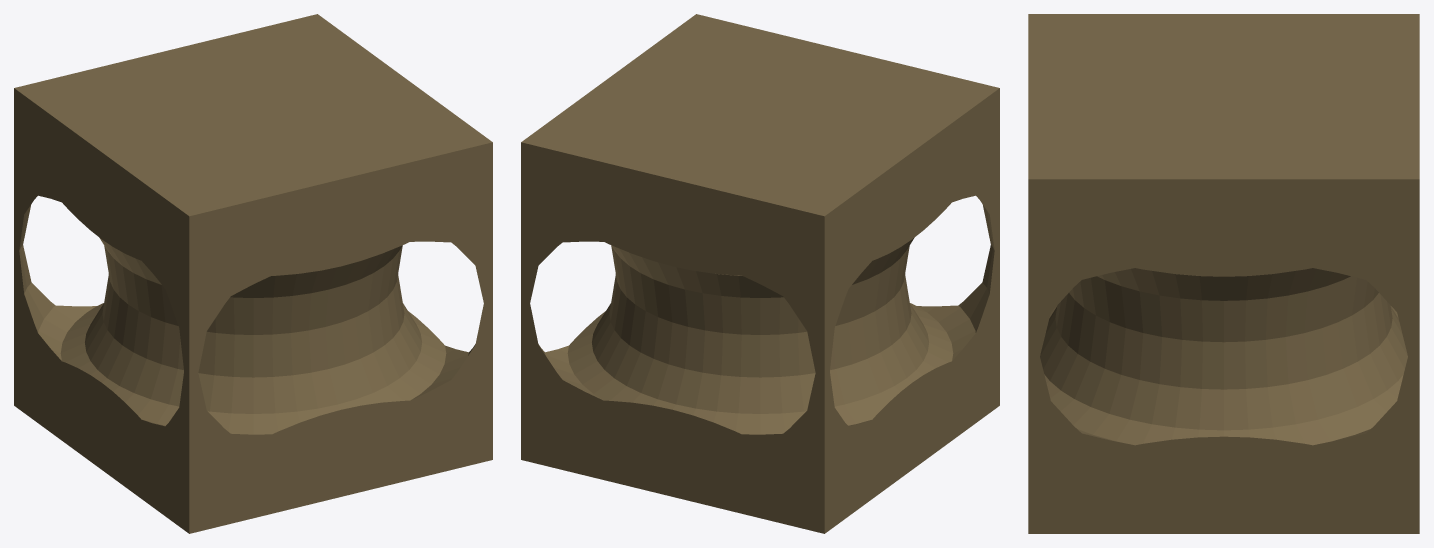
The picture shows the model from 3 angles, left to right: view 1: azimuth 30°, elevation 25°; view 2: azimuth 150°, elevation 25°; view 3: azimuth 270°, elevation 25°; orthographic projection. The views are drawn at different scales.
Parts seen in each view (by area): view 1: Cube; view 2: Cube; view 3: Cube.
Boxes of the visible parts, bbox=[...] form: Cube: bbox=[14, 14, 492, 533]; Cube: bbox=[521, 14, 999, 533]; Cube: bbox=[1028, 14, 1419, 533].
Bounding box in the file's own units: 2 × 2 × 2.
